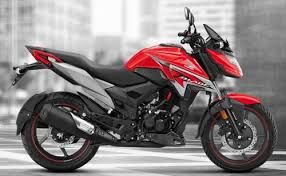motorcycle: (9, 6, 276, 168)
